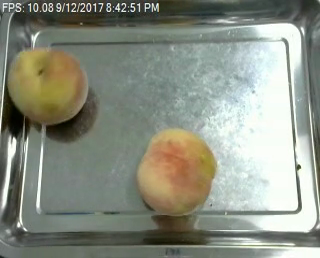Peach: (136, 126, 216, 216), (5, 47, 89, 125)
